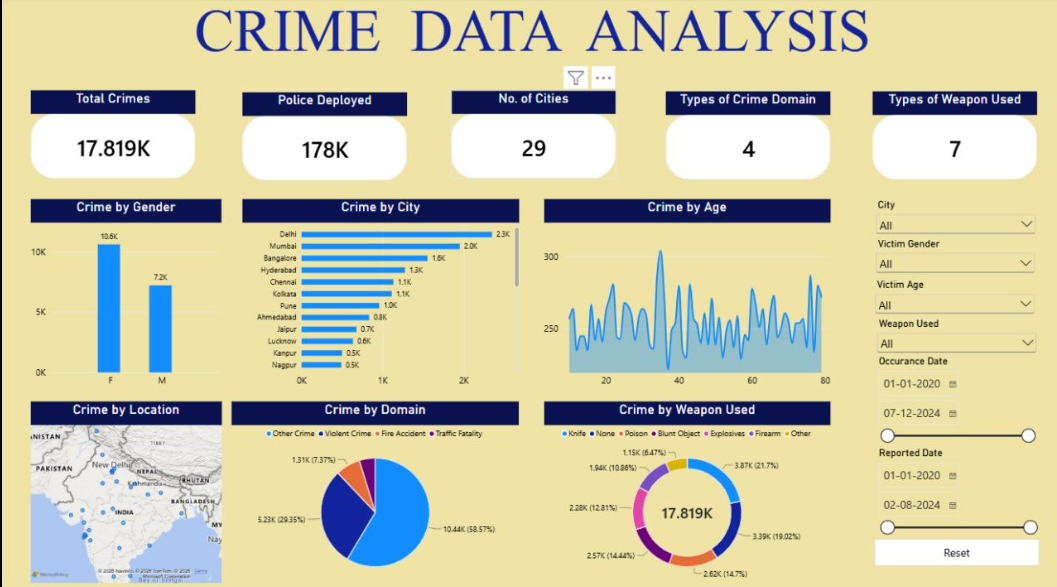

What the dashboard file says about the page in this screenshot:
{"tool":"powerbi","page":{"name":"Crime Data Analysis","canvas":[1920,1080],"ordinal":0},"visuals":[{"type":"textbox","box":[0,0,1920.1,153.8],"z":0},{"type":"cardVisual","title":"Total Crimes","fields":{"Data":["Count(Crime_Data.Report Number)"]},"box":[50.7,168.3,298.6,161.1],"z":1000},{"type":"cardVisual","title":"No. of Cities","fields":{"Data":["Count(Crime_Data.City)"]},"box":[812.5,168.3,298.6,161.1],"z":2000},{"type":"cardVisual","title":"Police Deployed","fields":{"Data":["Sum(Crime_Data.Police Deployed)"]},"box":[434.3,171.9,298.6,161.1],"z":3000},{"type":"cardVisual","title":"Types of Crime Domain","fields":{"Data":["Count(Crime_Data.Crime Domain)"]},"box":[1201.6,170.1,298.6,161.1],"z":4000},{"type":"cardVisual","title":"Types of Weapon Used","fields":{"Data":["Count(Crime_Data.Weapon Used)"]},"box":[1576.2,170.1,298.6,161.1],"z":5000},{"type":"columnChart","fields":{"Category":["Crime_Data.Victim Gender"],"Y":["CountNonNull(Crime_Data.Report Number)"]},"box":[50.7,365.6,345.6,345.6],"z":5001},{"type":"slicer","fields":{"Values":["Crime_Data.Victim Age","Crime_Data.Report Number"]},"box":[1576.2,510.3,298.6,70.6],"z":5002},{"type":"slicer","fields":{"Values":["Crime_Data.Date of Occurrence"]},"box":[1579.8,649.7,295,166.5],"z":5003},{"type":"slicer","fields":{"Values":["Crime_Data.Weapon Used"]},"box":[1579.8,580.9,298.6,68.8],"z":5004},{"type":"slicer","fields":{"Values":["Crime_Data.City"]},"box":[1578,365.6,298.6,70.6],"z":5005},{"type":"slicer","fields":{"Values":["Crime_Data.Victim Gender"]},"box":[1578,436.1,296.8,74.2],"z":5006},{"type":"slicer","fields":{"Values":["Crime_Data.Date Reported"]},"box":[1579.8,816.2,298.6,166.5],"z":5007},{"type":"actionButton","box":[1579.8,982.6,298.6,48.9],"z":5008},{"type":"clusteredBarChart","title":"Crime by City","fields":{"Category":["Crime_Data.City"],"Y":["CountNonNull(Crime_Data.Report Number)"]},"box":[434.3,365.6,501.3,345.6],"z":5009},{"type":"areaChart","title":"Crime by Age","fields":{"Category":["Crime_Data.Victim Age"],"Y":["CountNonNull(Crime_Data.Report Number)"]},"box":[980.8,365.6,519.4,345.6],"z":5010},{"type":"pieChart","title":"Crime by Domain","fields":{"Category":["Crime_Data.Crime Domain"],"Y":["CountNonNull(Crime_Data.Report Number)"]},"box":[414.4,732.9,521.2,329.4],"z":5011},{"type":"donutChart","title":"Crime by Weapon Used","fields":{"Category":["Crime_Data.Weapon Used"],"Y":["CountNonNull(Crime_Data.Report Number)"]},"box":[980.8,732.9,519.4,329.4],"z":5012},{"type":"map","title":"Crime by Location","fields":{"Category":["Crime_Data.City","Crime_Data.Report Number"]},"box":[51,733,346,329],"z":5013}]}

Visuals, with their boxes in screenshot pixels (x1, y1, x2, y2), scaled from the page's 1920x1080 canvas onto the 1057x587 screenshot:
textbox: 0 0 1056 84
"Total Crimes" cardVisual: 28 91 192 179
"No. of Cities" cardVisual: 447 91 612 179
"Police Deployed" cardVisual: 239 93 403 181
"Types of Crime Domain" cardVisual: 662 92 826 180
"Types of Weapon Used" cardVisual: 868 92 1032 180
columnChart - Crime_Data.Victim Gender x CountNonNull(Crime_Data.Report Number): 28 199 218 387
slicer - Crime_Data.Victim Age x Crime_Data.Report Number: 868 277 1032 316
slicer - Crime_Data.Date of Occurrence: 870 353 1032 444
slicer - Crime_Data.Weapon Used: 870 316 1034 353
slicer - Crime_Data.City: 869 199 1033 237
slicer - Crime_Data.Victim Gender: 869 237 1032 277
slicer - Crime_Data.Date Reported: 870 444 1034 534
actionButton: 870 534 1034 561
"Crime by City" clusteredBarChart: 239 199 515 387
"Crime by Age" areaChart: 540 199 826 387
"Crime by Domain" pieChart: 228 398 515 577
"Crime by Weapon Used" donutChart: 540 398 826 577
"Crime by Location" map: 28 398 219 577
